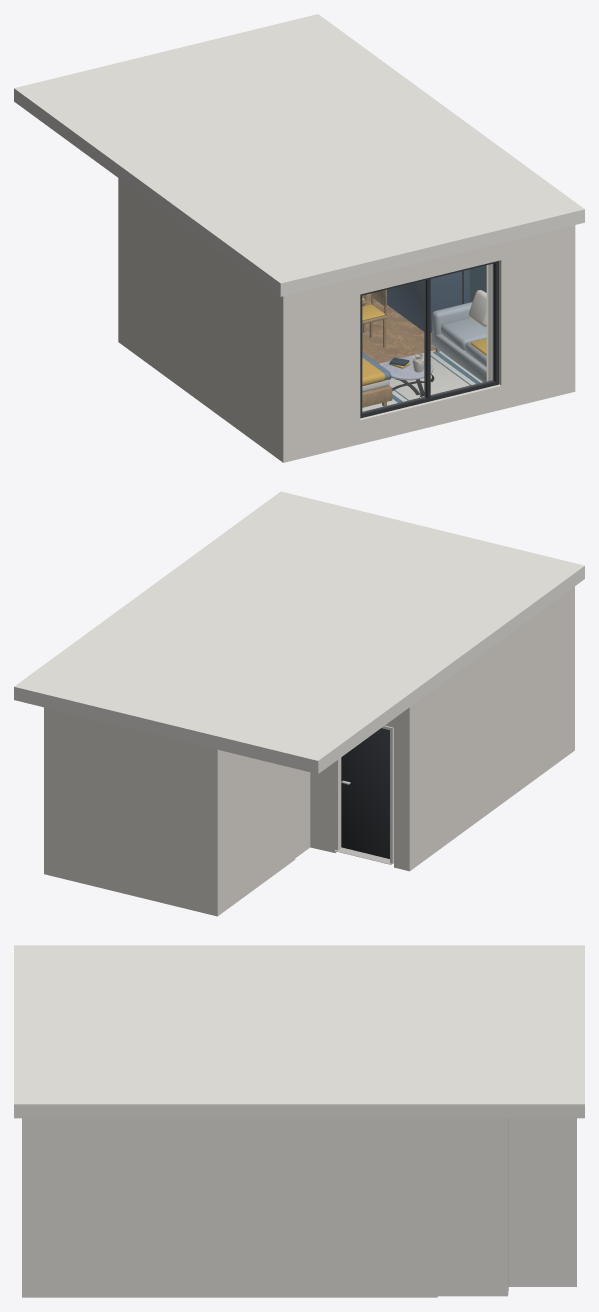
The model's file is lot.glb.
3 renders of one model, top to bottom at view 1: azimuth 30°, elevation 25°; view 2: azimuth 150°, elevation 25°; view 3: azimuth 270°, elevation 25°, orthographic. The views are drawn at different scales.
Parts seen in each view (by area): view 1: m_Plafond, m_Enduit blanc, m_Verre, m_Alu anthracite, m_Tissu canape, m_Facade cuisine, m_Parquet, m_Tapis, m_Chene, m_coffee_table_round_01, m_Rideau, m_Plaid; view 2: m_Plafond, m_Enduit blanc, m_Porte paliere, m_Porte; view 3: m_Plafond, m_Enduit blanc.
Boxes of the visible parts, box(x1,y1,x2,y2) form: m_Plafond: box(14, 14, 584, 296); m_Enduit blanc: box(118, 178, 575, 462); m_Verre: box(362, 264, 493, 412); m_Alu anthracite: box(360, 261, 498, 418); m_Tissu canape: box(431, 292, 486, 382); m_Facade cuisine: box(387, 269, 469, 332); m_Parquet: box(362, 293, 435, 363); m_Tapis: box(362, 350, 482, 411); m_Chene: box(362, 289, 439, 407); m_coffee_table_round_01: box(383, 357, 434, 397); m_Rideau: box(486, 264, 492, 381); m_Plaid: box(362, 338, 486, 386); m_Plafond: box(14, 491, 584, 773); m_Enduit blanc: box(44, 586, 574, 916); m_Porte paliere: box(341, 728, 389, 858); m_Porte: box(335, 725, 393, 863); m_Plafond: box(14, 945, 584, 1118); m_Enduit blanc: box(22, 1118, 576, 1297).
Bounding box in the file's own units: 4.79 × 2.76 × 7.27.
Materials: 42 (8 with a texture image).
